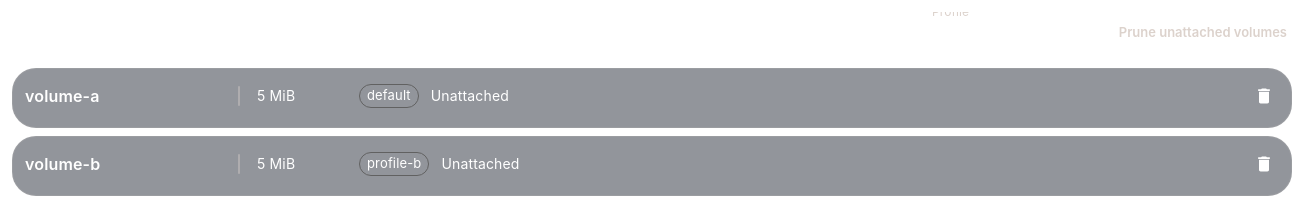
Test: VolumesView › narrows the rendered list to the selected profile
Expected: the text "volume-a" is shown, top-left (25, 86), bottom-right (100, 106)
Expected: the text "volume-b" is shown, top-left (25, 154), bottom-right (100, 174)
Select "profile-b" in the dropdown labelled "Profile": (1008, 32) top-left (918, 12), bottom-right (1098, 52)
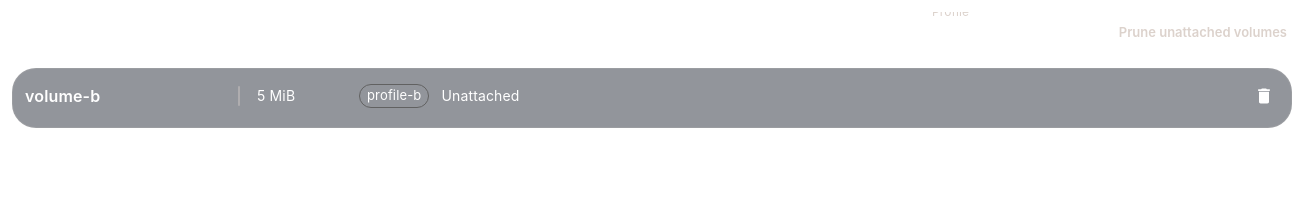
Expected: the text "volume-b" is shown, top-left (25, 86), bottom-right (100, 106)
Expected: the text "volume-a" is gone
